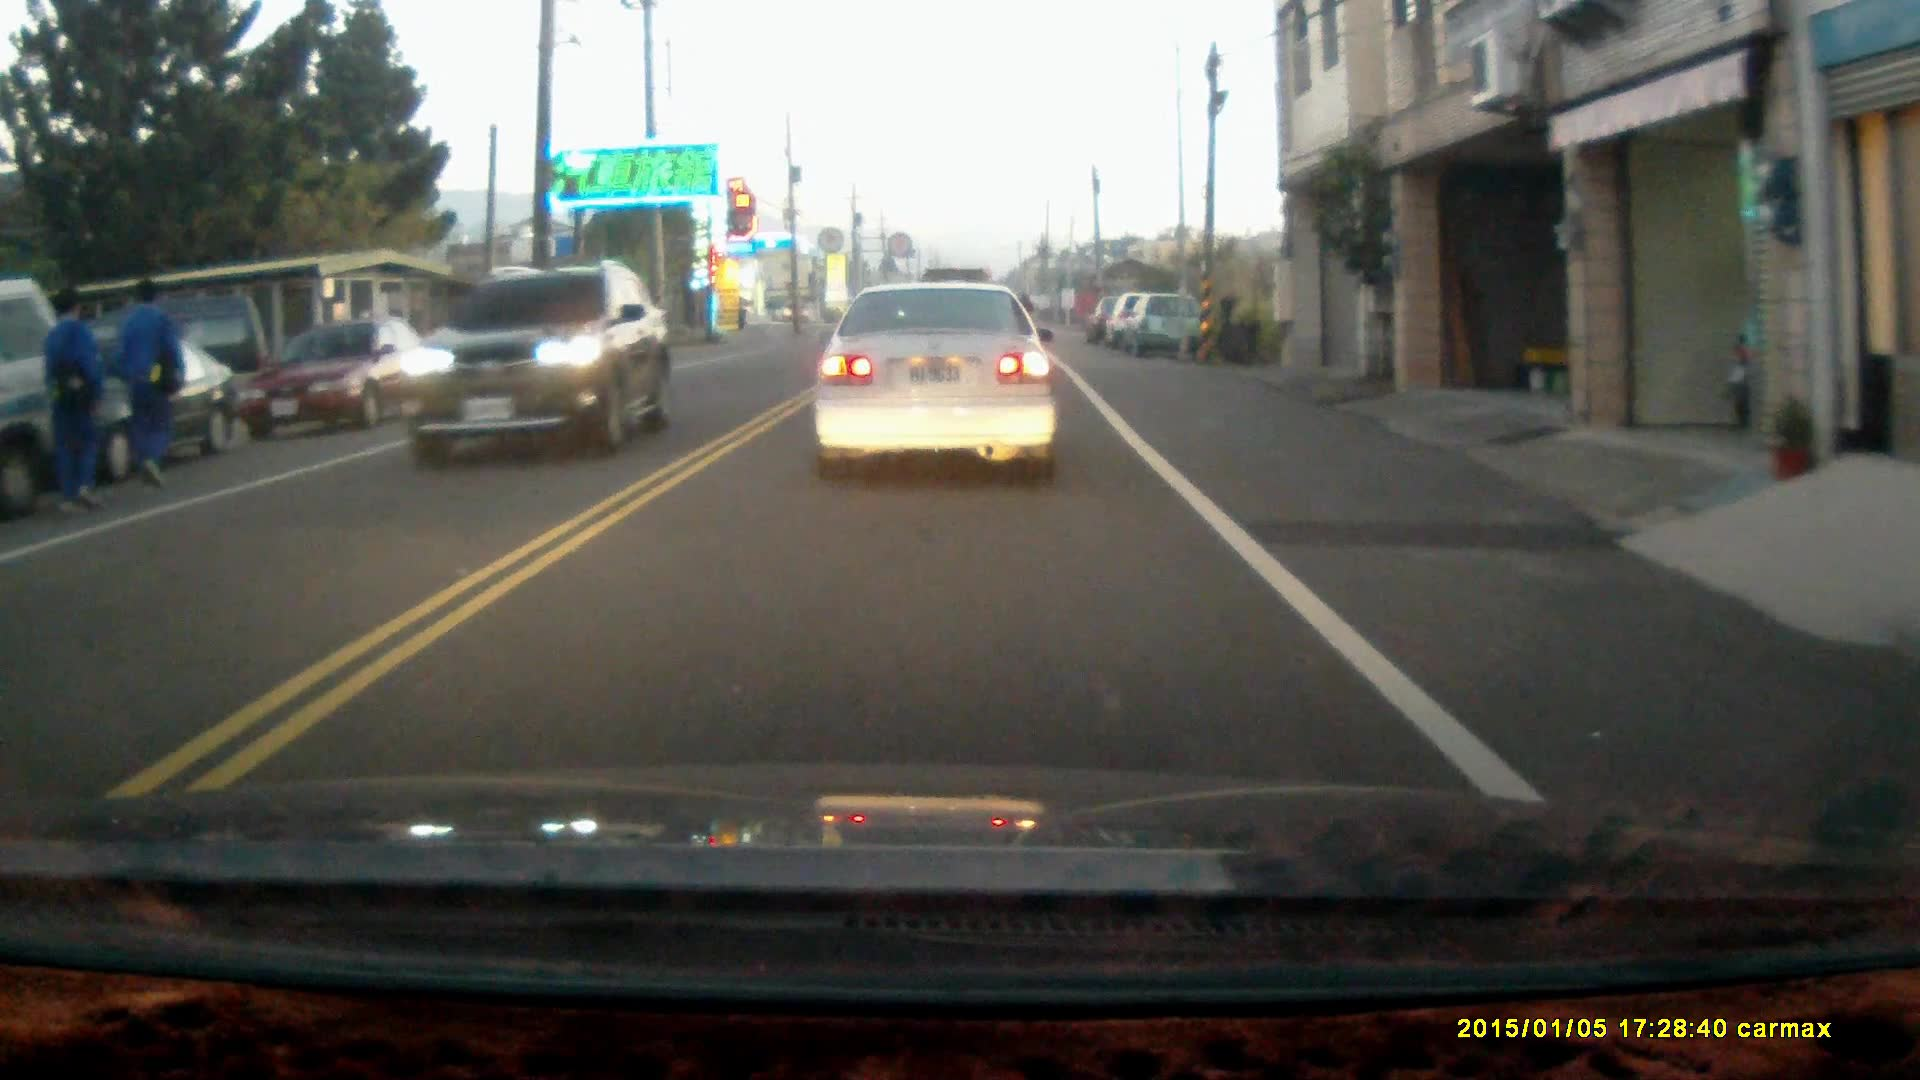pedestrian: (113, 278, 187, 497), (35, 285, 103, 512)
vehicle: (403, 262, 674, 465), (807, 280, 1064, 486), (13, 324, 250, 487), (258, 315, 439, 444), (1, 278, 92, 517), (1120, 294, 1207, 361)
